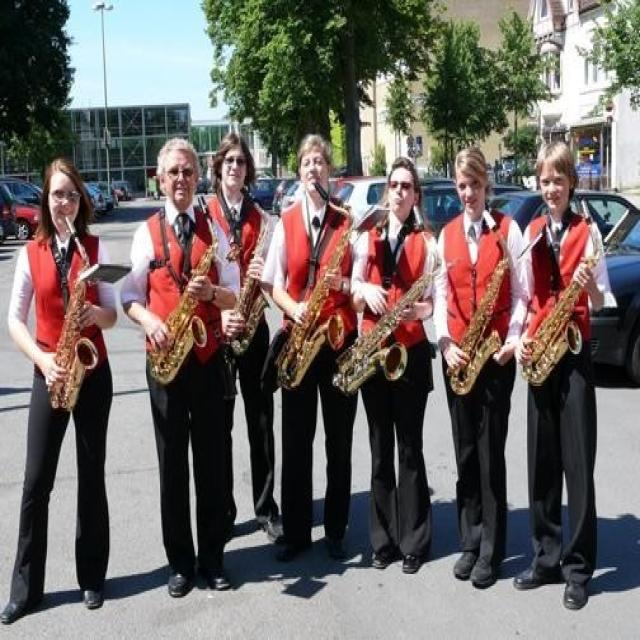saxophone: (332, 198, 438, 391), (273, 171, 360, 389), (520, 192, 601, 391), (146, 200, 220, 388), (444, 202, 514, 396), (48, 219, 104, 410), (225, 183, 275, 354)
